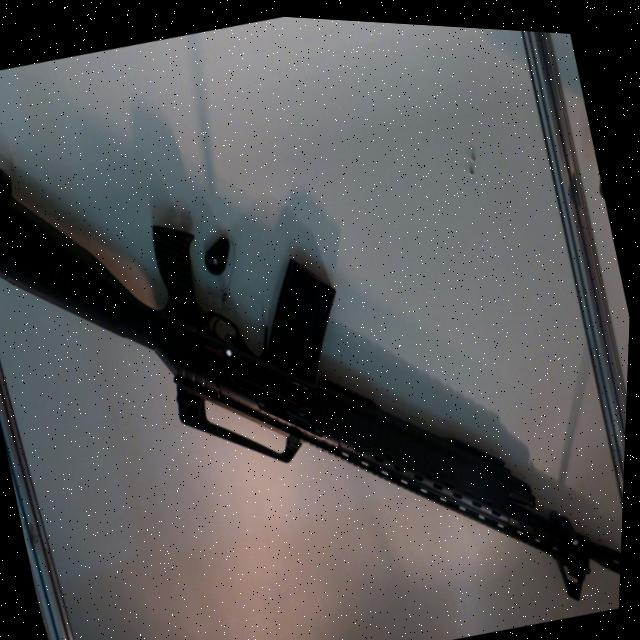firearm: (0, 25, 639, 640)
